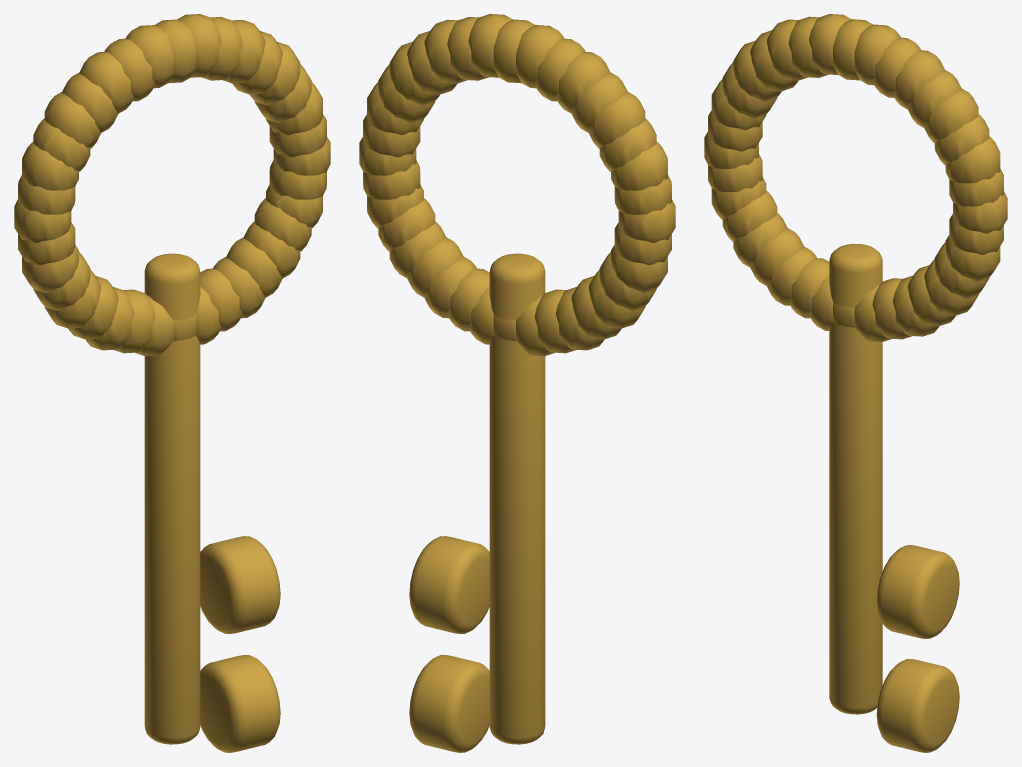
Rendered from key.glb.
3 views of the same model, side by side, from view 1: azimuth 30°, elevation 25°; view 2: azimuth 150°, elevation 25°; view 3: azimuth 330°, elevation 25° (orthographic). The views are drawn at different scales.
Visible parts, largest first — view 1: key; view 2: key; view 3: key.
Boxes of the visible parts, x1,y1,x2,y2 form: key: [14, 14, 330, 752]; key: [359, 14, 675, 752]; key: [704, 14, 1007, 752].
Bounding box in the file's own units: 0.3804 × 0.8726 × 0.1.
